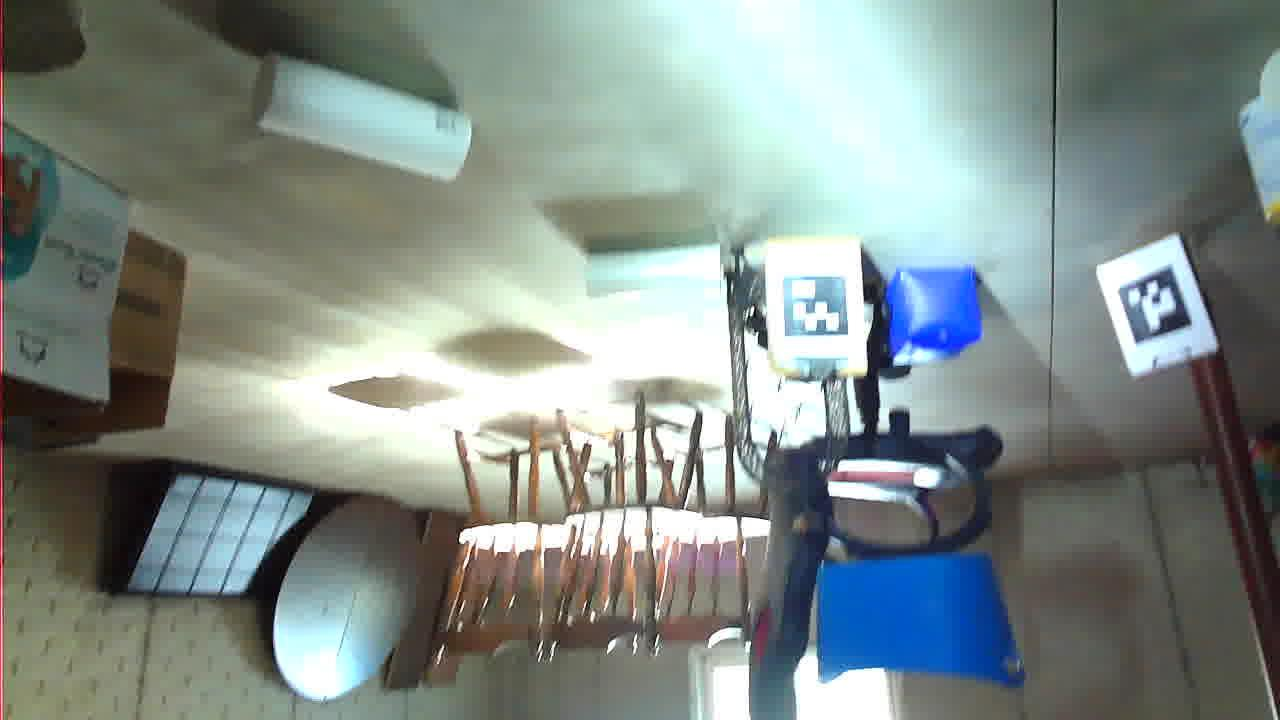coral: (809, 537, 1027, 667), (558, 417, 696, 479)
